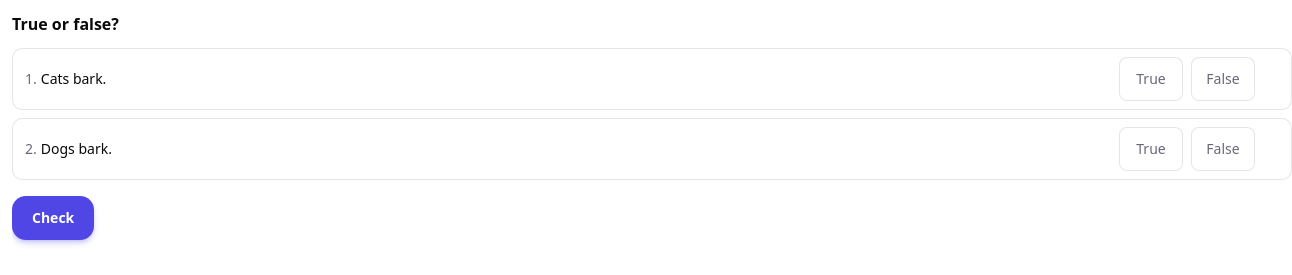
Test: PLAY-015 wrong-answer notes › True/False: a wrong row states the correct choice; a right row does not
expect the text "Correct:" is not shown: met
What coordinates should you click on to do the following:
click the button "True" in the row of "Cats bark."
I would click on:
 (1151, 79)
Its box is [1119,57,1183,101].
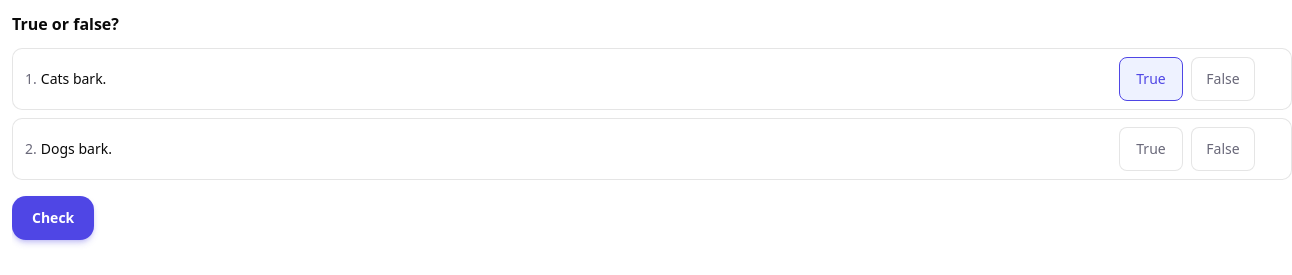
What coordinates should you click on to do the following:
click the button "True" in the row of "Dogs bark."
I would click on:
 (1151, 149)
Its box is [1119,127,1183,171].
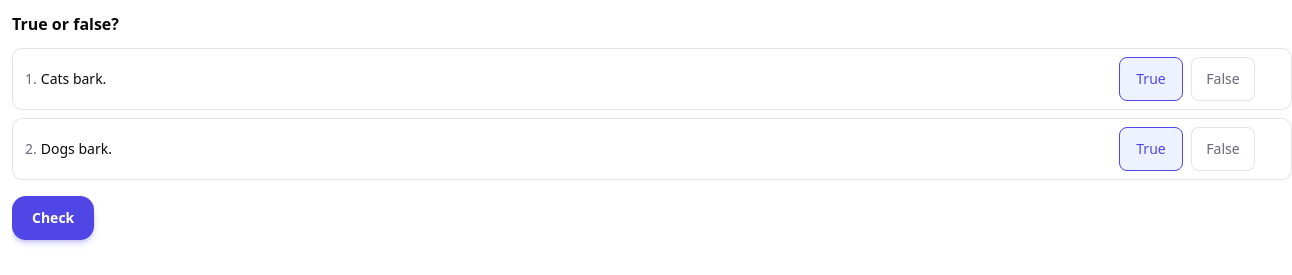
expect the number of buttons "False" is 2: met, box [1191,57,1255,101]; [1191,127,1255,171]
What coordinates should you click on to do the following:
click the button "Check"
I would click on:
 (53, 218)
Its box is [12,196,94,240].
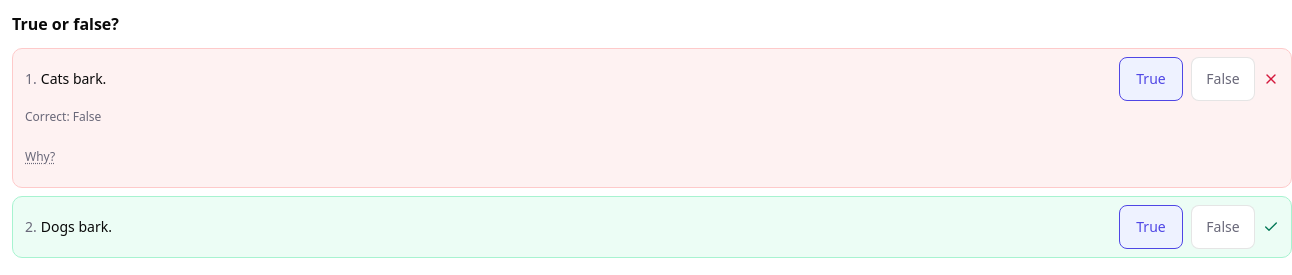
expect the text "Correct: False" is shown once: met, box [25,108,101,125]
expect the text "Correct: False" is shown: met, box [25,108,101,125]
